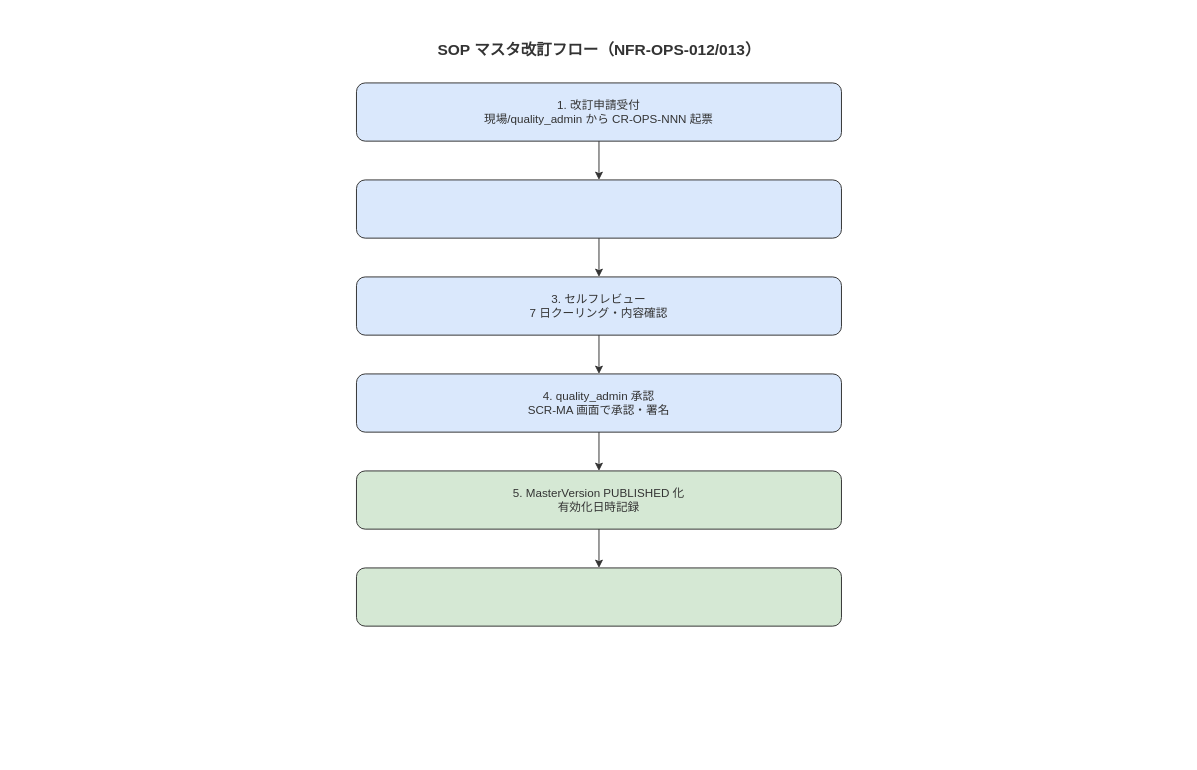
The diagram is 1197 pixels wide and 770 high, and some of its shapes have lost their labels. The shapes that lost their labels are listed below. From the top down, each one's box as (x1, y1, x2, y2) in pixels, then its label:
(356, 179, 841, 238): 2. ドラフト作成 system_admin が新バージョン Draft 作成
(356, 567, 841, 626): 6. 教育完了確認 現場スタッフへの周知・理解確認
